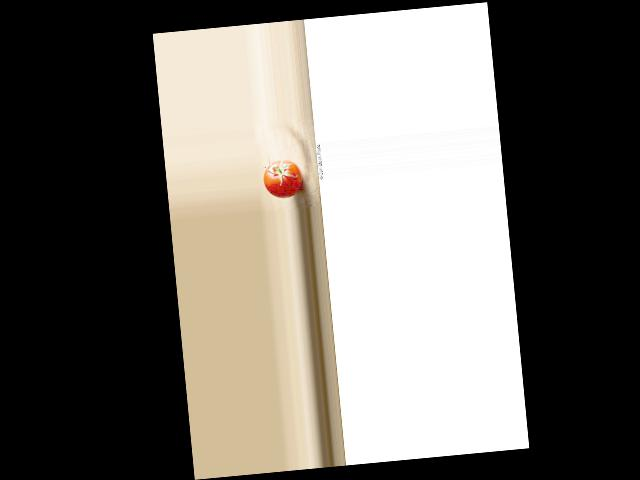tomato: (262, 157, 303, 199)
